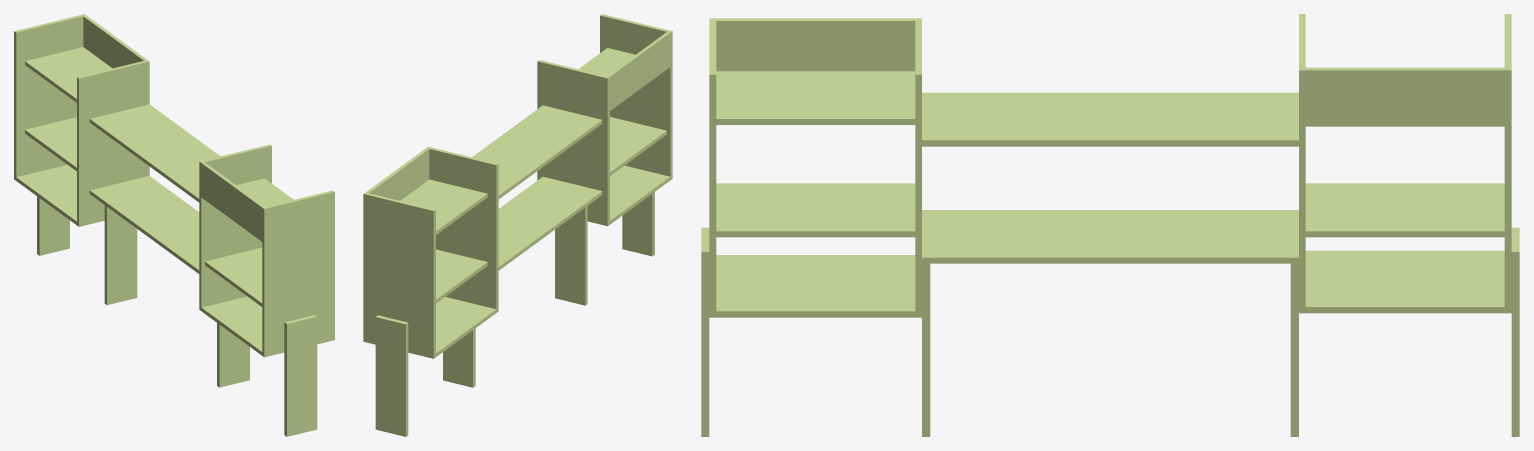
File: Shelf3.fbx
The picture shows the model from 3 angles, left to right: view 1: azimuth 30°, elevation 25°; view 2: azimuth 150°, elevation 25°; view 3: azimuth 270°, elevation 25°; orthographic projection. The views are drawn at different scales.
Visible parts, largest first — view 1: Persoon.004; view 2: Persoon.004; view 3: Persoon.004.
Part boxes in pixels (bbox=[...]): Persoon.004: bbox=[14, 14, 334, 436]; Persoon.004: bbox=[363, 14, 672, 436]; Persoon.004: bbox=[701, 14, 1519, 436].
Bounding box in the file's own units: 0.3187 × 0.9265 × 1.82.
